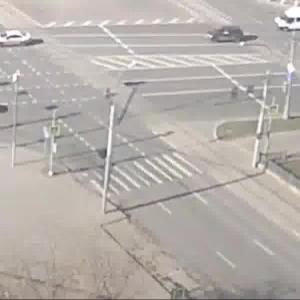car: (202, 25, 249, 45), (274, 11, 300, 32), (1, 33, 37, 48)
